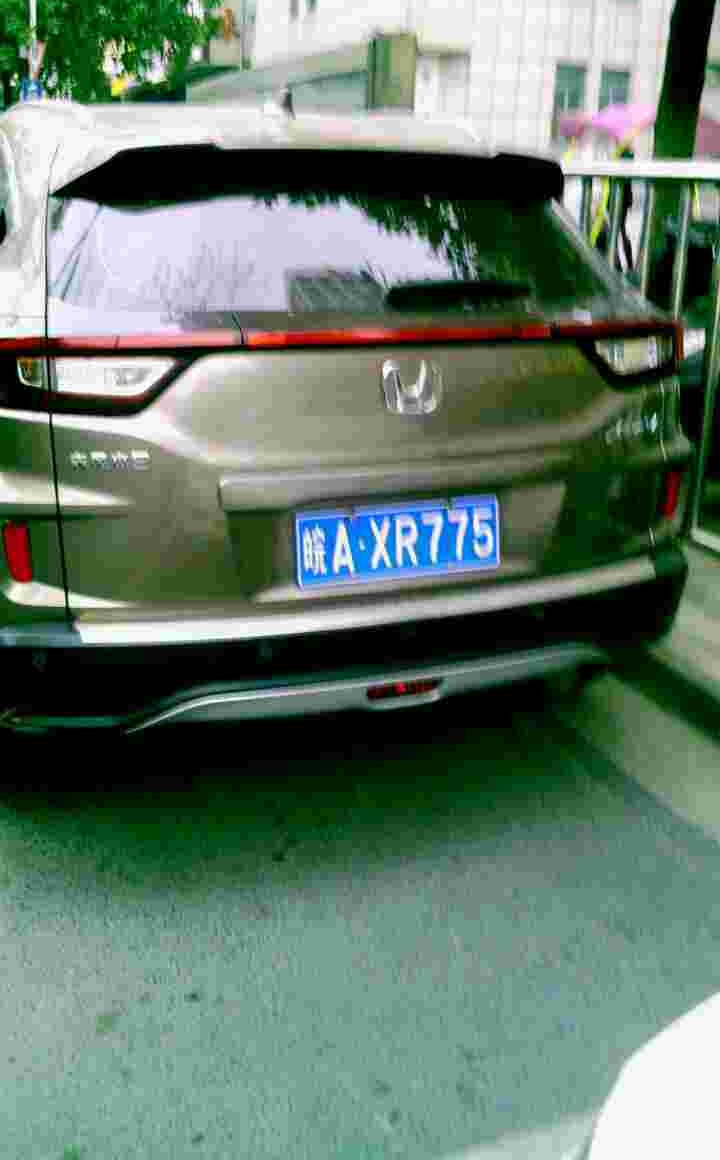plate: (302, 492, 505, 590)
